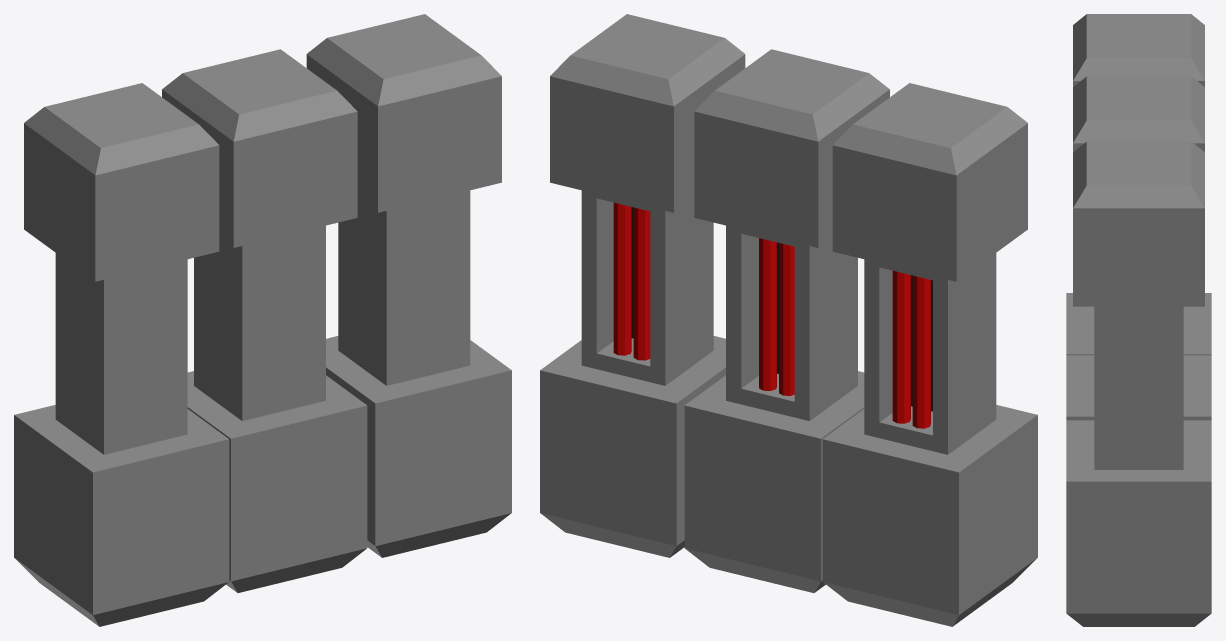
Rendered from power_widget.glb.
The picture shows the model from 3 angles, left to right: view 1: azimuth 30°, elevation 25°; view 2: azimuth 150°, elevation 25°; view 3: azimuth 270°, elevation 25°; orthographic projection. The views are drawn at different scales.
Visible parts, largest first — view 1: PowerWidget; view 2: PowerWidget; view 3: PowerWidget.
Part boxes in pixels (left/top/right/bottom): PowerWidget: left=14, top=14, right=511, bottom=626; PowerWidget: left=540, top=14, right=1037, bottom=626; PowerWidget: left=1066, top=14, right=1211, bottom=626.
Bounding box in the file's own units: 6.14 × 6.68 × 2.
Materials: 1 (1 with a texture image).
